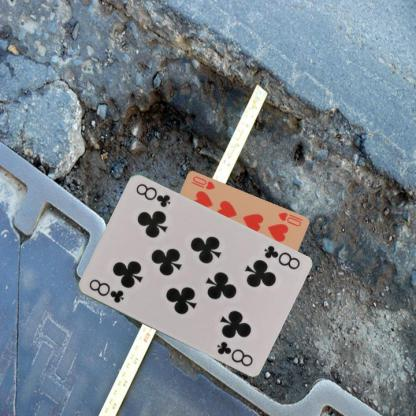10h: (275, 209, 302, 228)
8c: (85, 276, 125, 305), (261, 243, 301, 271)
